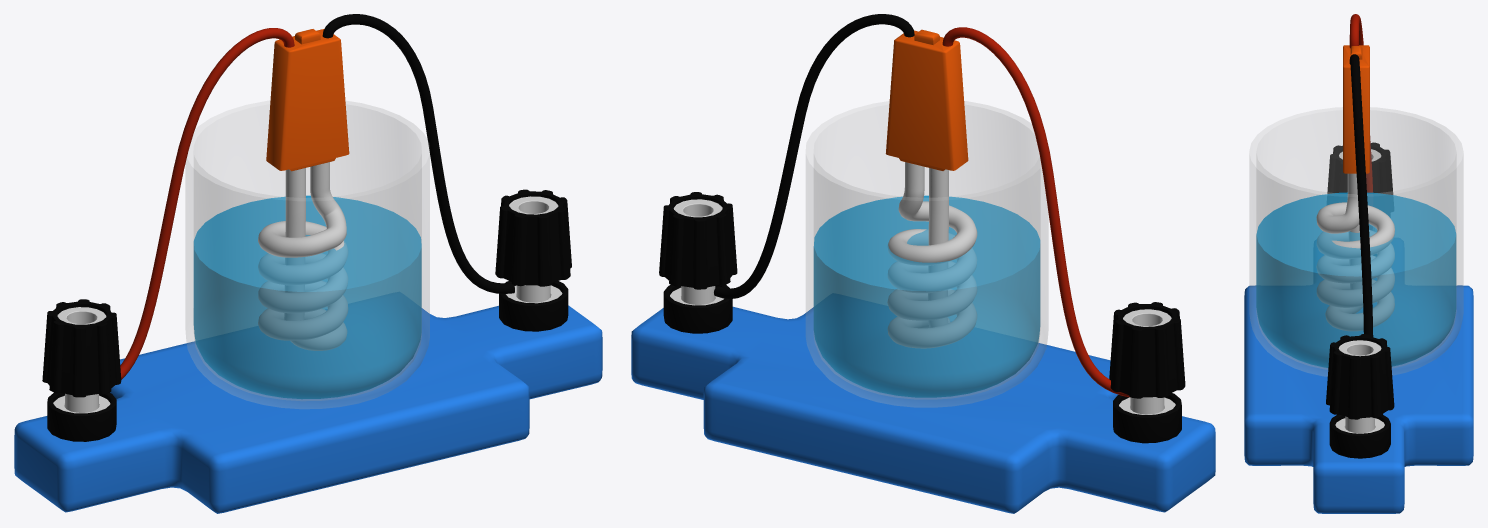
Rendered from Heater - Copy.fbx.
3 views of the same model, side by side, from view 1: azimuth 30°, elevation 25°; view 2: azimuth 150°, elevation 25°; view 3: azimuth 270°, elevation 25° (orthographic). The views are drawn at different scales.
Visible parts, largest first — view 1: Cylinder.058, Resistor.008, Cylinder.059, Cylinder.057, Spiral.002, Cube.001, Cylinder.056, cable, cable.001; view 2: Cylinder.058, Resistor.008, Cylinder.059, Cylinder.057, Spiral.002, Cube.001, Cylinder.056, cable, cable.001; view 3: Cylinder.058, Resistor.008, Cylinder.059, Spiral.002, Cylinder.057, cable.001, Cube.001, Cylinder.056, cable.
Boxes of the visible parts, x1,y1,x2,y2 form: Cylinder.058: (185,100,429,408); Resistor.008: (14,305,602,513); Cylinder.059: (193,195,421,398); Cylinder.057: (42,189,571,412); Spiral.002: (258,162,347,350); Cube.001: (266,29,349,171); Cylinder.056: (47,281,568,441); cable: (120,28,294,379); cable.001: (322,14,514,293); Cylinder.058: (806,101,1048,407); Resistor.008: (631,306,1215,513); Cylinder.059: (813,195,1040,397); Cylinder.057: (659,192,1185,414); Spiral.002: (887,162,977,348); Cube.001: (885,29,968,170); Cylinder.056: (663,285,1181,443); cable: (942,27,1129,397); cable.001: (714,14,914,298); Cylinder.058: (1249,107,1463,376); Resistor.008: (1244,285,1473,513); Cylinder.059: (1256,192,1456,367); Spiral.002: (1316,173,1394,330); Cylinder.057: (1326,142,1394,433); cable.001: (1349,54,1373,337); Cube.001: (1343,45,1369,173); Cylinder.056: (1329,414,1390,458); cable: (1349,14,1372,192).
Size of the model in its own units: 236 by 172 by 98.66.
